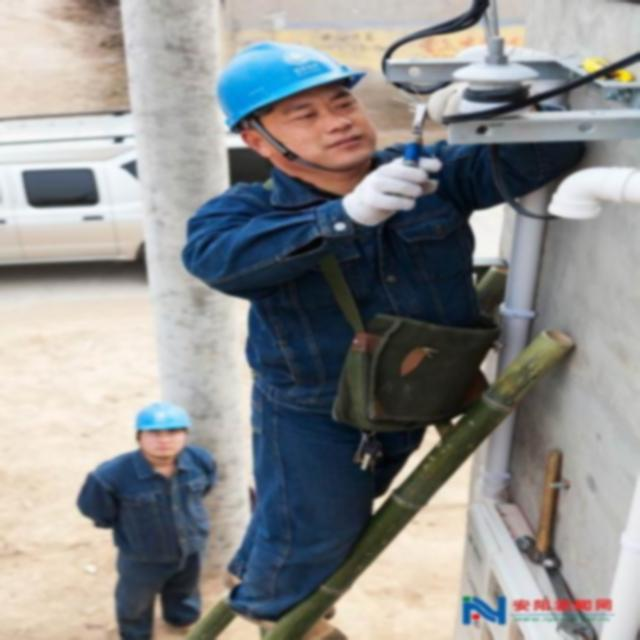head: (193, 22, 388, 190), (131, 401, 193, 463)
